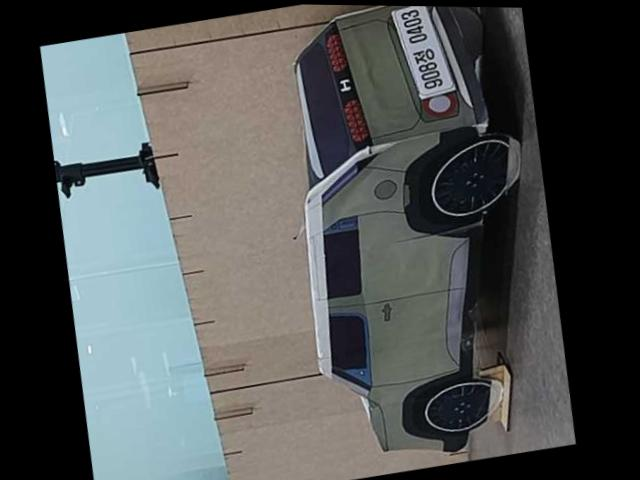car: (245, 4, 581, 478)
id: (385, 6, 460, 103)
